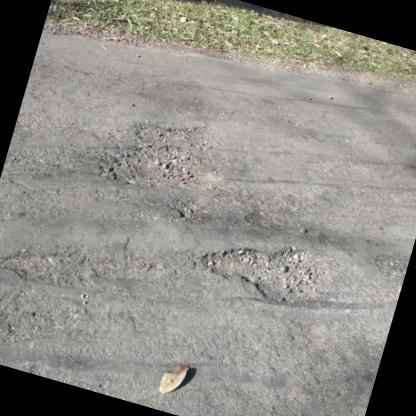pothole: (193, 219, 338, 314), (87, 124, 226, 206), (130, 106, 224, 160), (170, 196, 204, 226)
